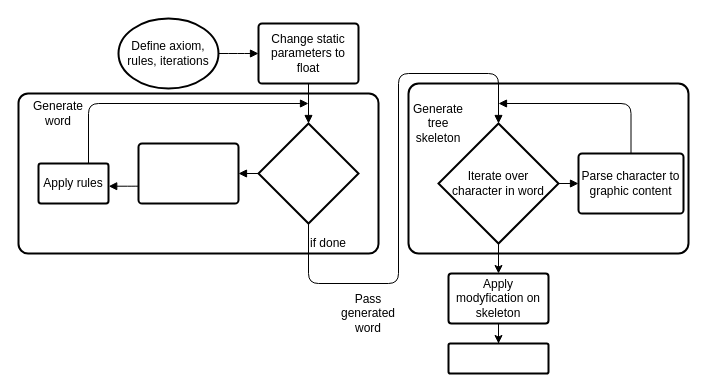
The diagram is 706 pixels wide and 391 high, and some of its shapes have lost their labels. The shapes that lost their labels are listed below. From the top down, each one's centre as x and y in pixels, then its label:
At [188,173]: "Change dynamic parameters to float".
At [308,173]: "Iterate over iterations".
At [498,358]: "Generate mesh".
